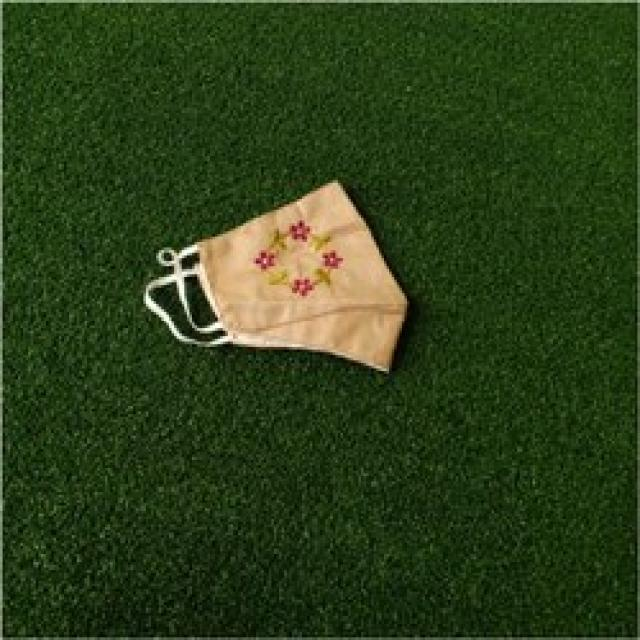non-organic waste: (151, 180, 410, 387)
